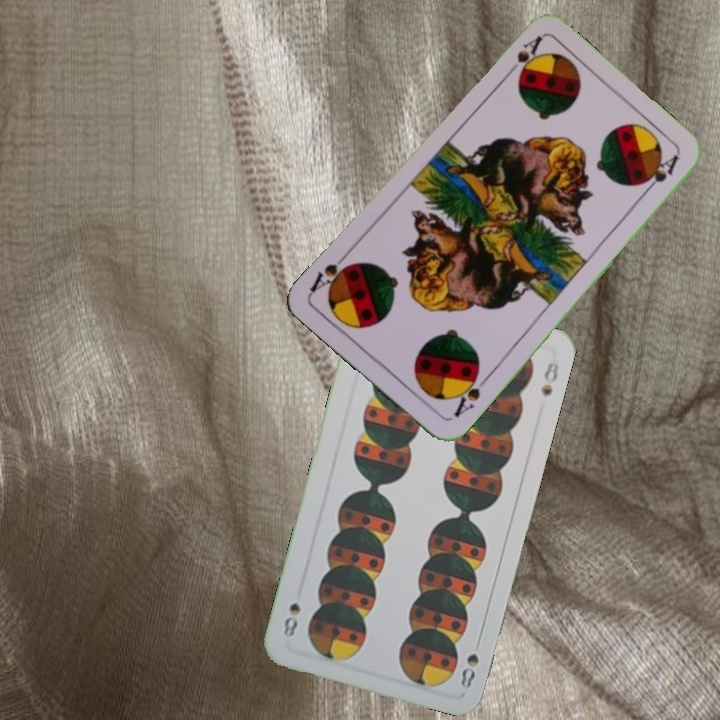S8: (456, 633, 484, 692)
SA: (449, 366, 491, 420), (500, 31, 545, 81)
